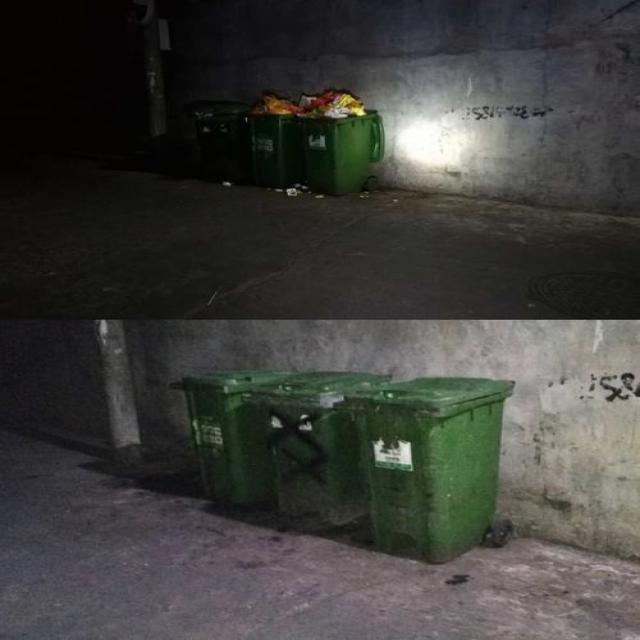garbage: (267, 183, 324, 197)
garbage_bin: (336, 376, 514, 564), (237, 370, 393, 528), (168, 370, 289, 506)
overflow: (296, 90, 382, 195), (243, 94, 297, 187)
